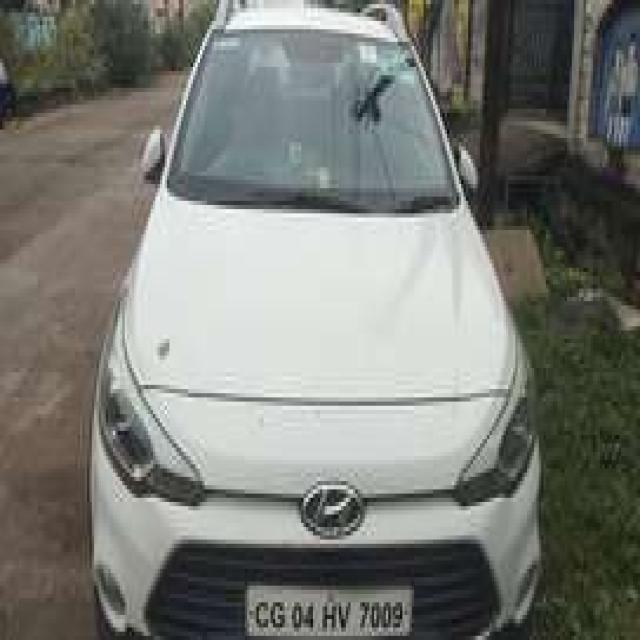plate: (245, 581, 411, 640)
